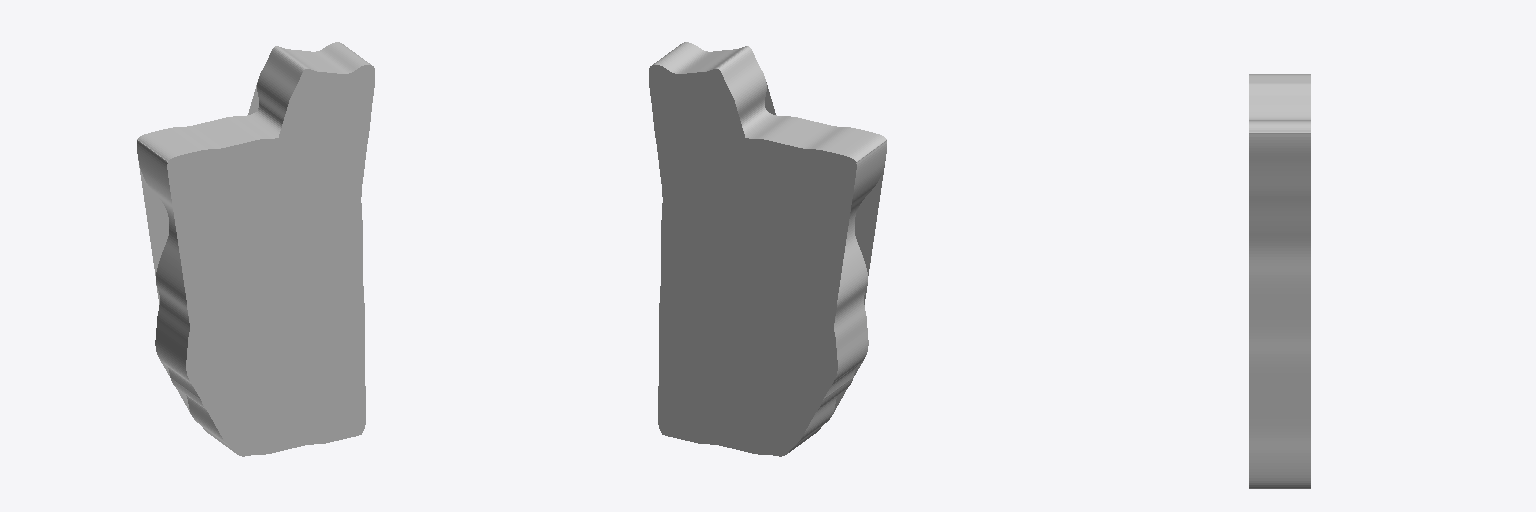
3 views of the same model, side by side, from view 1: azimuth 30°, elevation 25°; view 2: azimuth 150°, elevation 25°; view 3: azimuth 270°, elevation 25° (orthographic).
Visible parts, largest first — view 1: 平面; view 2: 平面; view 3: 平面.
Boxes of the visible parts, <box> form: 平面: <box>137,42,374,456</box>; 平面: <box>649,42,886,456</box>; 平面: <box>1249,74,1310,488</box>.
Bounding box in the file's own units: 0.78 × 1.36 × 0.2.